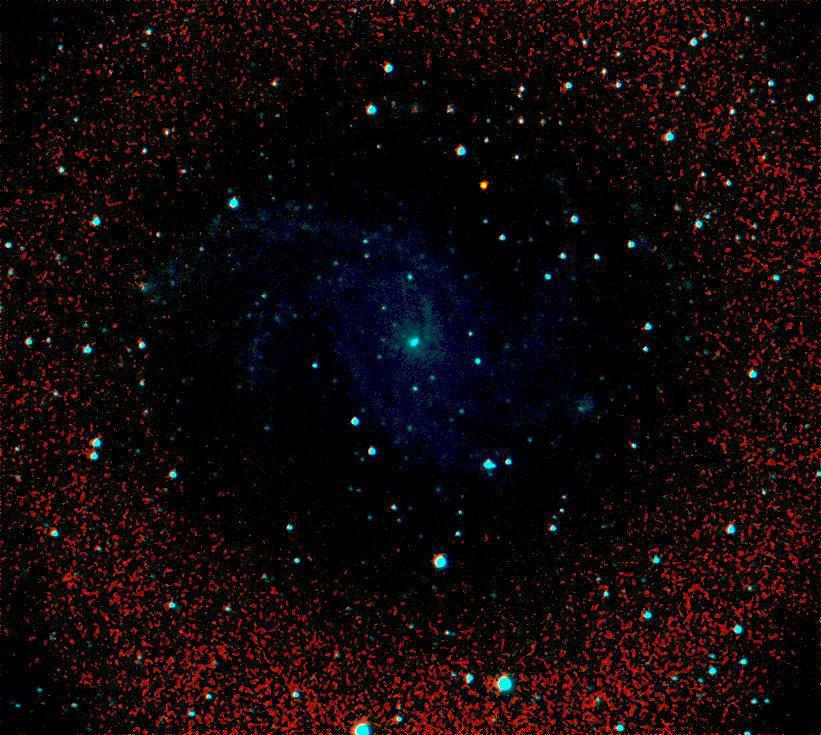star: (466, 168, 496, 198)
